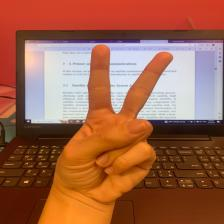two: (60, 43, 174, 199)
